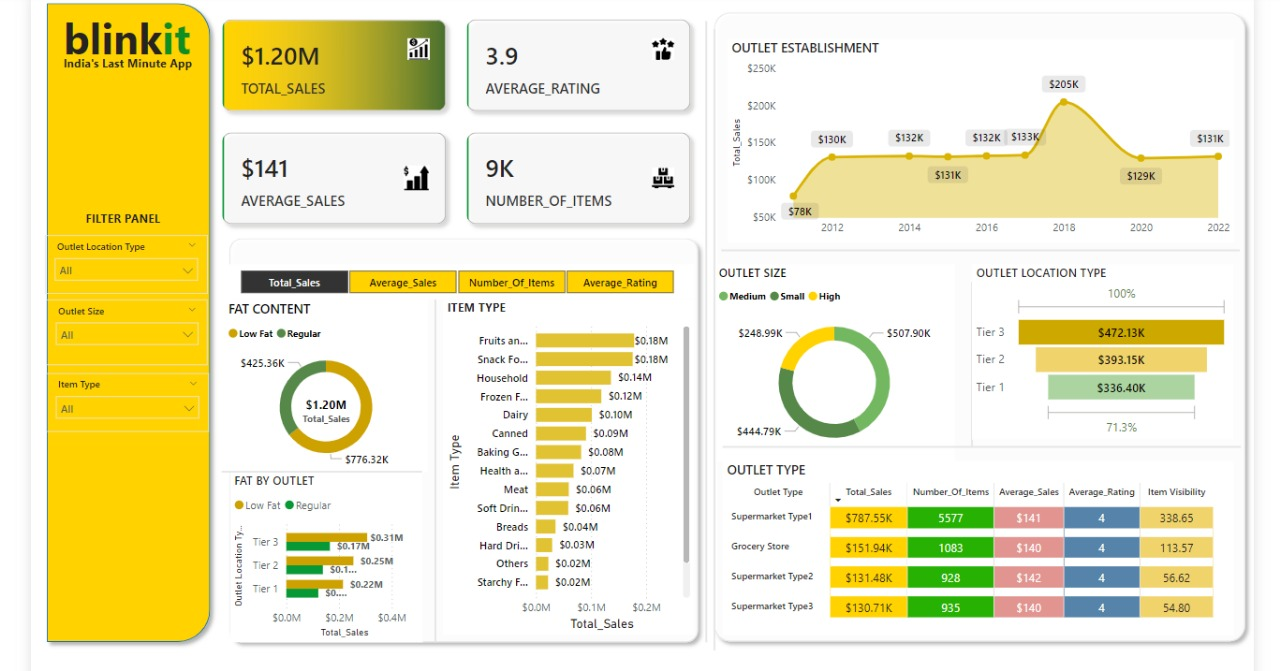

The page's visual inventory and layout, read from the dashboard file:
{"tool":"powerbi","page":{"name":"Page 1","canvas":[1400,800],"ordinal":0},"visuals":[{"type":"shape","box":[10,0,205,750],"z":0},{"type":"textbox","box":[31.5,10.5,163.6,78],"z":1000},{"type":"textbox","box":[31.5,63.1,172.3,33.1],"z":2000},{"type":"cardVisual","fields":{"Data":["BlinkIT Grocery Data.Total_Sales","BlinkIT Grocery Data.Average_Rating","BlinkIT Grocery Data.No_of_Item","BlinkIT Grocery Data.Number_Of_Items"]},"box":[202.9,10.3,570.6,269.1],"z":3000},{"type":"shape","box":[219.1,269.1,554.4,480.9],"z":4000},{"type":"slicer","fields":{"Values":["Metrics.Metrics"]},"box":[214.7,308.8,545.6,39.7],"z":5000},{"type":"donutChart","title":"FAT CONTENT","fields":{"Y":["BlinkIT Grocery Data.Total_Sales"],"Category":["BlinkIT Grocery Data.Item Fat Content"]},"box":[220.6,348.5,233.8,198.5],"z":6000},{"type":"cardVisual","fields":{"Data":["BlinkIT Grocery Data.Total_Sales"]},"box":[283.8,442.6,108.8,67.6],"z":7000},{"type":"clusteredBarChart","title":"FAT BY OUTLET","fields":{"Y":["BlinkIT Grocery Data.Total_Sales"],"Category":["BlinkIT Grocery Data.Outlet Location Type"],"Series":["BlinkIT Grocery Data.Item Fat Content"]},"box":[227.9,547.1,220.6,194.1],"z":8000},{"type":"shape","box":[219.1,535.3,229.4,22.1],"z":9000},{"type":"shape","box":[454.4,348.5,17.6,392.6],"z":10000},{"type":"barChart","title":"ITEM TYPE","fields":{"Y":["BlinkIT Grocery Data.Total_Sales"],"Category":["BlinkIT Grocery Data.Item Type"]},"box":[471.9,348.5,288.2,384.7],"z":11000},{"type":"shape","box":[773.5,10.7,626,738.6],"z":12000},{"type":"lineChart","title":"OUTLET ESTABLISHMENT","fields":{"Y":["BlinkIT Grocery Data.Total_Sales"],"Category":["BlinkIT Grocery Data.Outlet Establishment Year"]},"box":[797.6,49.6,580.4,234.6],"z":13000},{"type":"shape","box":[764.1,29.5,18.8,711.8],"z":14000},{"type":"donutChart","title":"OUTLET SIZE","fields":{"Y":["BlinkIT Grocery Data.Total_Sales"],"Category":["BlinkIT Grocery Data.Outlet Size"]},"box":[782.8,308.3,274.8,225.2],"z":15000},{"type":"shape","box":[1068.4,328.4,18.8,189],"z":16000},{"type":"funnel","title":"OUTLET LOCATION TYPE","fields":{"Category":["BlinkIT Grocery Data.Outlet Location Type"],"Y":["BlinkIT Grocery Data.Total_Sales"]},"box":[1077.8,308.3,298.9,201.1],"z":17000},{"type":"shape","box":[774.1,39.5,18.8,711.8],"z":18000},{"type":"shape","box":[792.2,509.4,593.8,16.1],"z":19000},{"type":"shape","box":[790.9,284.2,593.8,16.1],"z":20000},{"type":"pivotTable","title":"OUTLET TYPE","fields":{"Rows":["BlinkIT Grocery Data.Outlet Type"],"Values":["BlinkIT Grocery Data.Total_Sales","BlinkIT Grocery Data.Number_Of_Items","BlinkIT Grocery Data.Average_Sales","BlinkIT Grocery Data.Average_Rating","Sum(BlinkIT Grocery Data.Item Visibility)"]},"box":[792.2,533.5,585.8,199.7],"z":21000},{"type":"slicer","fields":{"Values":["BlinkIT Grocery Data.Outlet Location Type"]},"box":[16.1,274.8,186.3,67],"z":22000},{"type":"slicer","fields":{"Values":["BlinkIT Grocery Data.Outlet Size"]},"box":[17.4,348.5,185,75.1],"z":23000},{"type":"slicer","fields":{"Values":["BlinkIT Grocery Data.Item Type"]},"box":[17.4,433,186.3,67],"z":24000},{"type":"textbox","box":[57.6,241.3,104.6,28.2],"z":25000}]}

Visuals, with their boxes on the page's 1400x800 design canvas (x1, y1, x2, y2). These are canvas units, not pixel positions in the 1280x671 screenshot, which may show the page scaled, cropped or inside an application window:
shape: {"left": 10, "top": 0, "right": 215, "bottom": 750}
textbox: {"left": 32, "top": 10, "right": 195, "bottom": 88}
textbox: {"left": 32, "top": 63, "right": 204, "bottom": 96}
cardVisual - BlinkIT Grocery Data.Total_Sales x BlinkIT Grocery Data.Average_Rating: {"left": 203, "top": 10, "right": 774, "bottom": 279}
shape: {"left": 219, "top": 269, "right": 774, "bottom": 750}
slicer - Metrics.Metrics: {"left": 215, "top": 309, "right": 760, "bottom": 348}
"FAT CONTENT" donutChart: {"left": 221, "top": 348, "right": 454, "bottom": 547}
cardVisual - BlinkIT Grocery Data.Total_Sales: {"left": 284, "top": 443, "right": 393, "bottom": 510}
"FAT BY OUTLET" clusteredBarChart: {"left": 228, "top": 547, "right": 448, "bottom": 741}
shape: {"left": 219, "top": 535, "right": 448, "bottom": 557}
shape: {"left": 454, "top": 348, "right": 472, "bottom": 741}
"ITEM TYPE" barChart: {"left": 472, "top": 348, "right": 760, "bottom": 733}
shape: {"left": 774, "top": 11, "right": 1400, "bottom": 749}
"OUTLET ESTABLISHMENT" lineChart: {"left": 798, "top": 50, "right": 1378, "bottom": 284}
shape: {"left": 764, "top": 30, "right": 783, "bottom": 741}
"OUTLET SIZE" donutChart: {"left": 783, "top": 308, "right": 1058, "bottom": 534}
shape: {"left": 1068, "top": 328, "right": 1087, "bottom": 517}
"OUTLET LOCATION TYPE" funnel: {"left": 1078, "top": 308, "right": 1377, "bottom": 509}
shape: {"left": 774, "top": 40, "right": 793, "bottom": 751}
shape: {"left": 792, "top": 509, "right": 1386, "bottom": 526}
shape: {"left": 791, "top": 284, "right": 1385, "bottom": 300}
"OUTLET TYPE" pivotTable: {"left": 792, "top": 534, "right": 1378, "bottom": 733}
slicer - BlinkIT Grocery Data.Outlet Location Type: {"left": 16, "top": 275, "right": 202, "bottom": 342}
slicer - BlinkIT Grocery Data.Outlet Size: {"left": 17, "top": 348, "right": 202, "bottom": 424}
slicer - BlinkIT Grocery Data.Item Type: {"left": 17, "top": 433, "right": 204, "bottom": 500}
textbox: {"left": 58, "top": 241, "right": 162, "bottom": 270}
